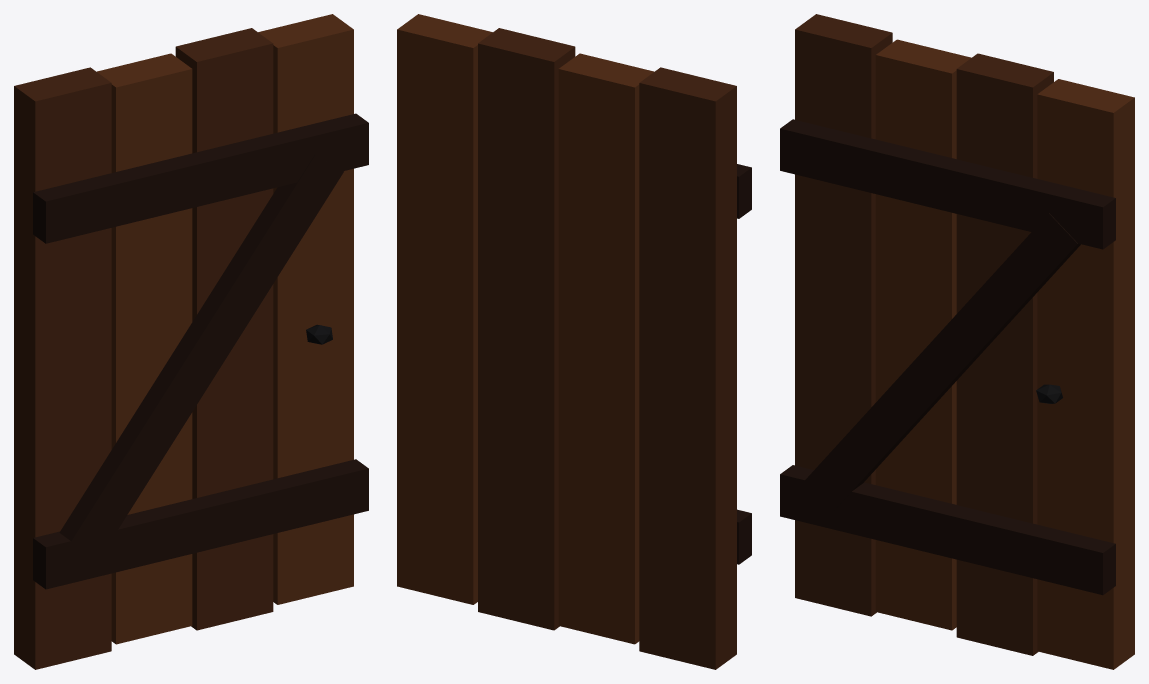
Rendered from wooddoor.obj.
3 renders of one model, left to right at view 1: azimuth 30°, elevation 25°; view 2: azimuth 150°, elevation 25°; view 3: azimuth 330°, elevation 25°, orthographic.
Visible parts, largest first — view 1: Planks, Bars; view 2: Planks, Bars; view 3: Planks, Bars.
Part boxes in pixels (x1,y1,x2,y2): Planks: [14, 14, 353, 669]; Bars: [33, 113, 368, 589]; Planks: [397, 14, 736, 669]; Bars: [737, 164, 751, 564]; Planks: [795, 14, 1134, 669]; Bars: [780, 119, 1115, 595].
Bounding box in the file's own units: 4.4 × 7.4 × 1.
